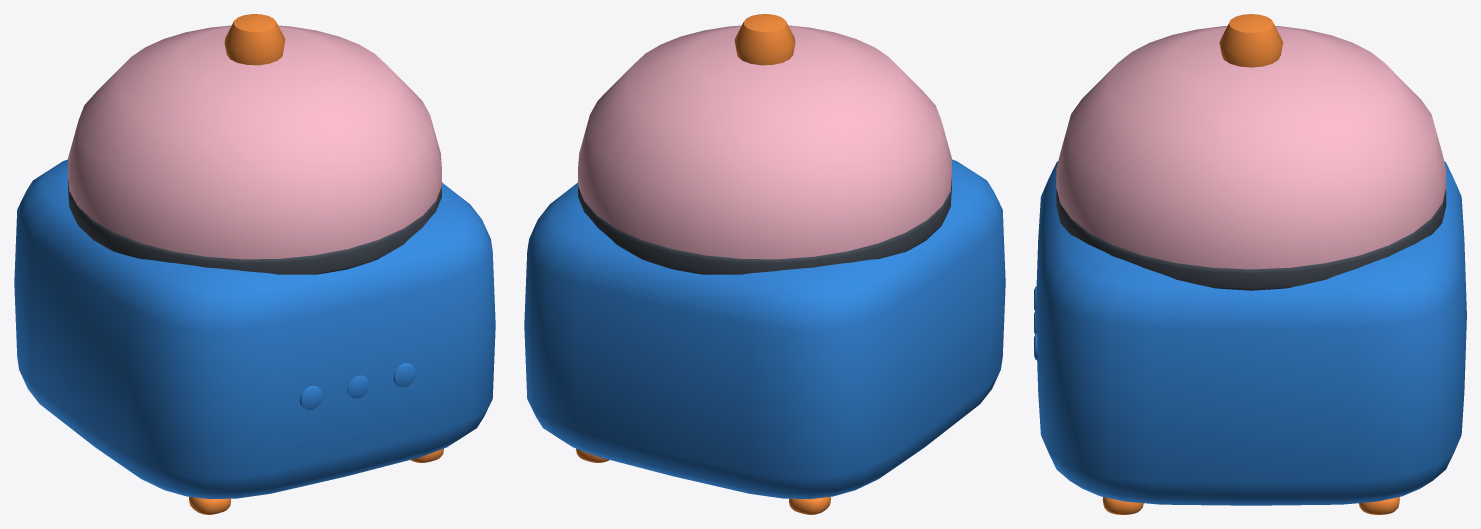
The model's file is panela_arroz_azul.glb.
3 views of the same model, side by side, from view 1: azimuth 30°, elevation 25°; view 2: azimuth 150°, elevation 25°; view 3: azimuth 270°, elevation 25° (orthographic). The views are drawn at different scales.
Visible parts, largest first — view 1: panela_arroz_azul, tampa; view 2: panela_arroz_azul, tampa; view 3: panela_arroz_azul, tampa.
Part boxes in pixels (bbox=[...]): panela_arroz_azul: bbox=[14, 159, 495, 514]; tampa: bbox=[68, 14, 441, 259]; panela_arroz_azul: bbox=[524, 159, 1005, 514]; tampa: bbox=[578, 14, 951, 259]; panela_arroz_azul: bbox=[1034, 161, 1466, 514]; tampa: bbox=[1056, 14, 1446, 269].
Bounding box in the file's own units: 0.27 × 0.302 × 0.271.
Materials: 1 (1 with a texture image).
